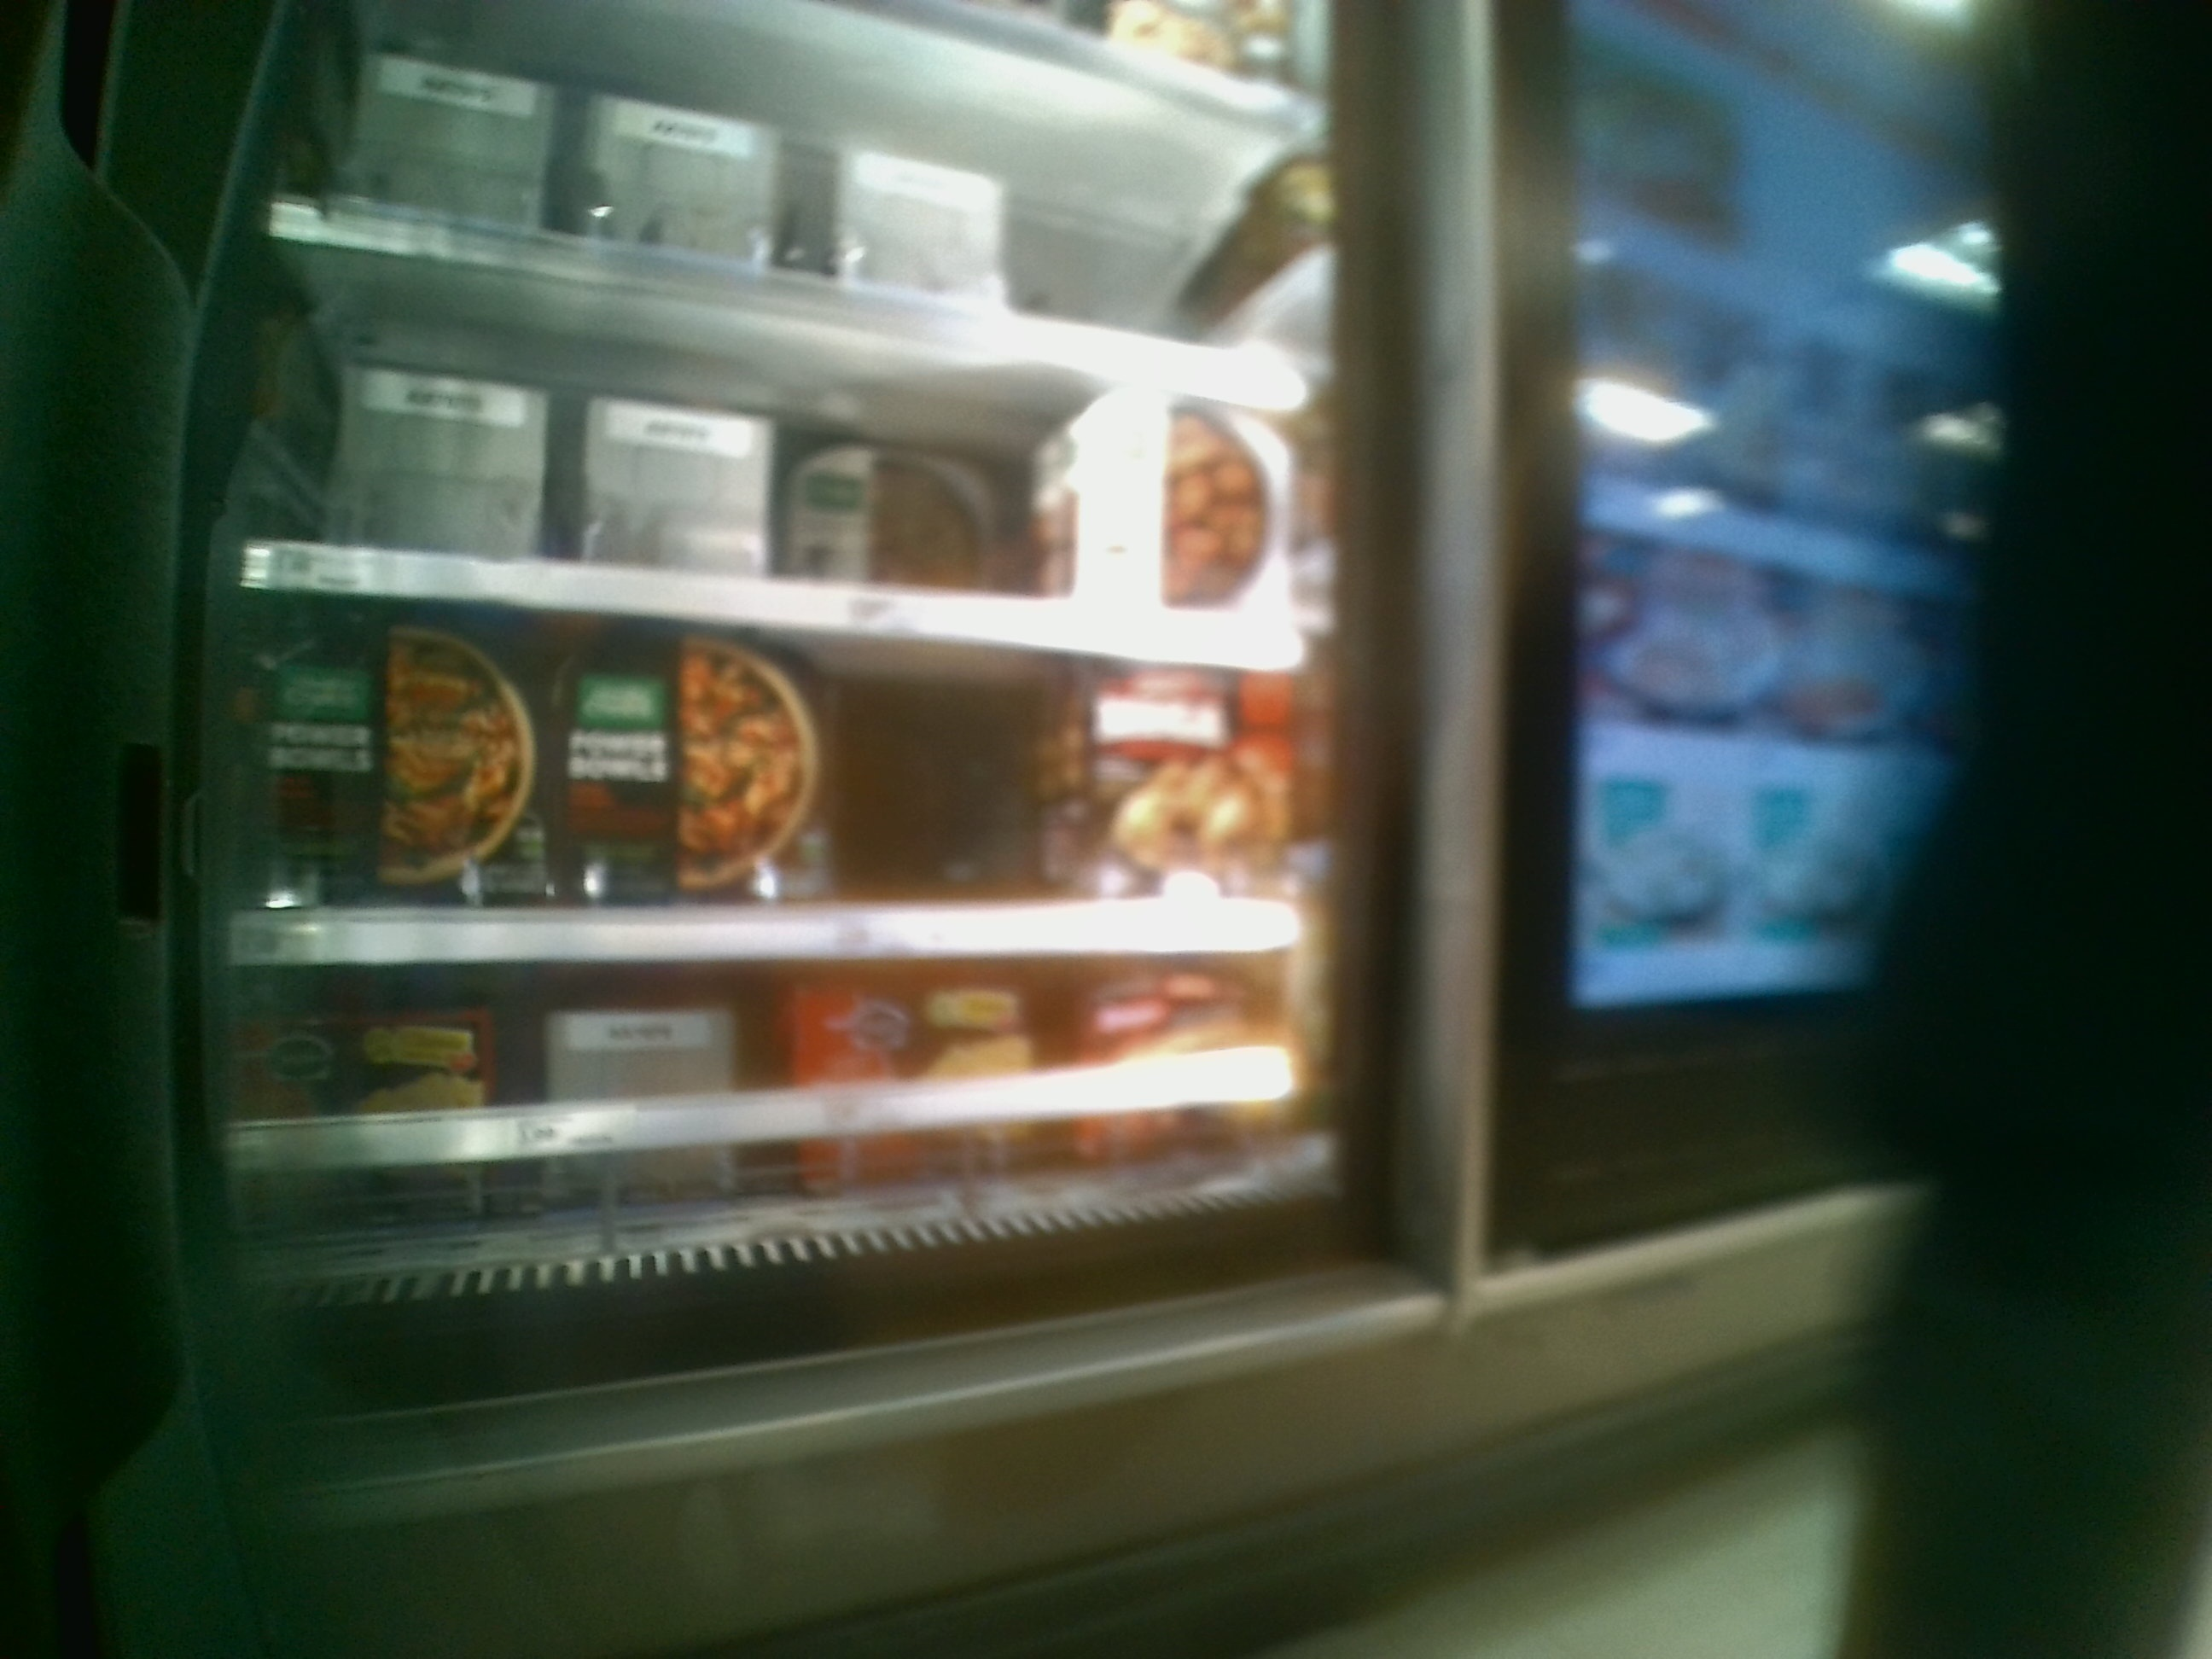shelf: (244, 953, 1327, 1326), (239, 587, 1298, 967)
